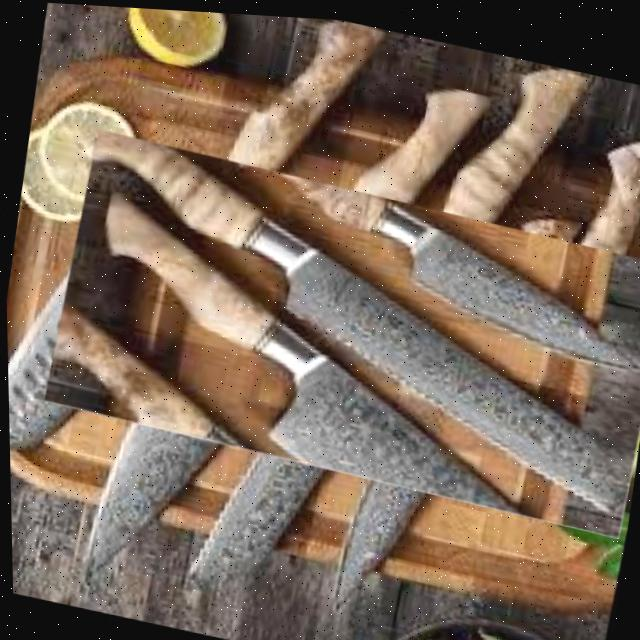knife: (72, 3, 511, 637), (172, 8, 606, 640), (49, 123, 640, 510), (0, 0, 397, 517), (318, 72, 640, 640), (70, 190, 560, 510), (258, 166, 640, 369)
